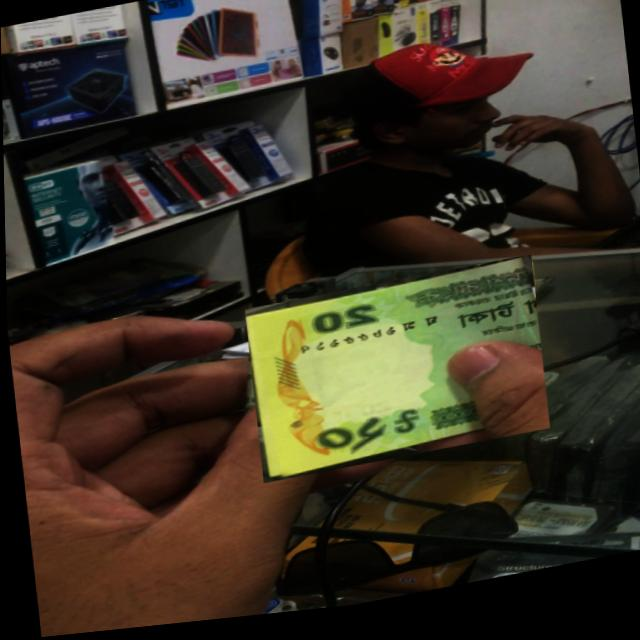Taka: (242, 264, 548, 490)
